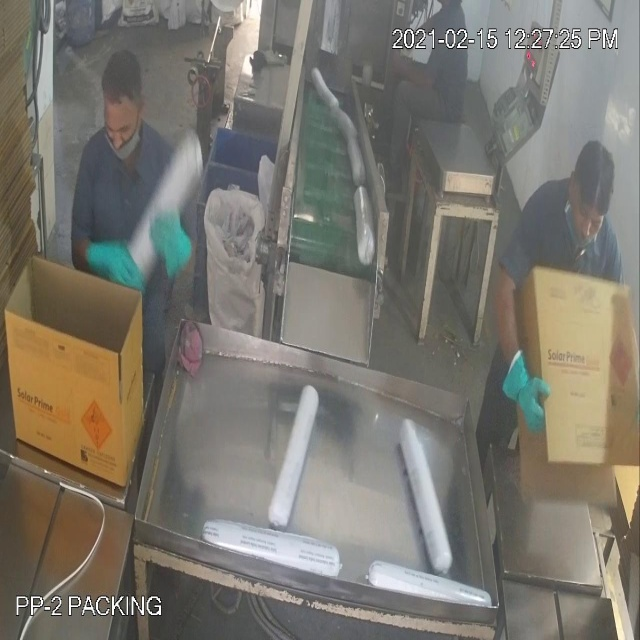Guantes: (496, 345, 555, 436), (142, 197, 198, 289), (87, 234, 147, 304)
Sin_guantes: (382, 48, 447, 85)
